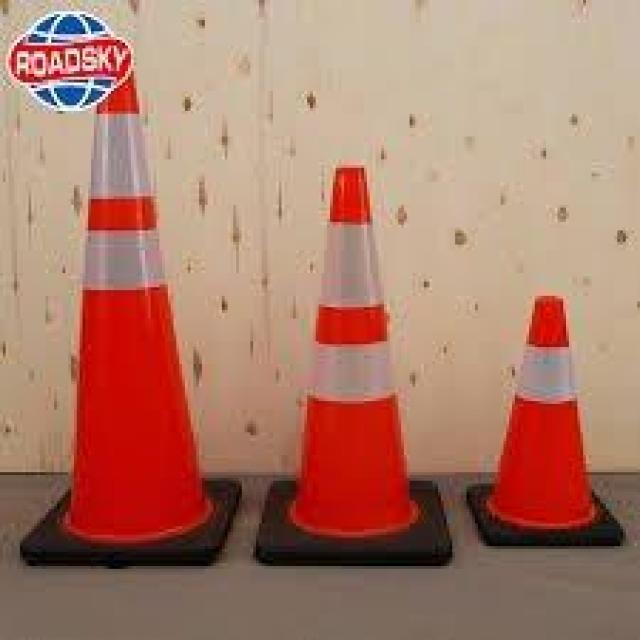Cono de seguridad: (43, 51, 245, 571), (253, 150, 459, 572), (475, 279, 629, 557)
